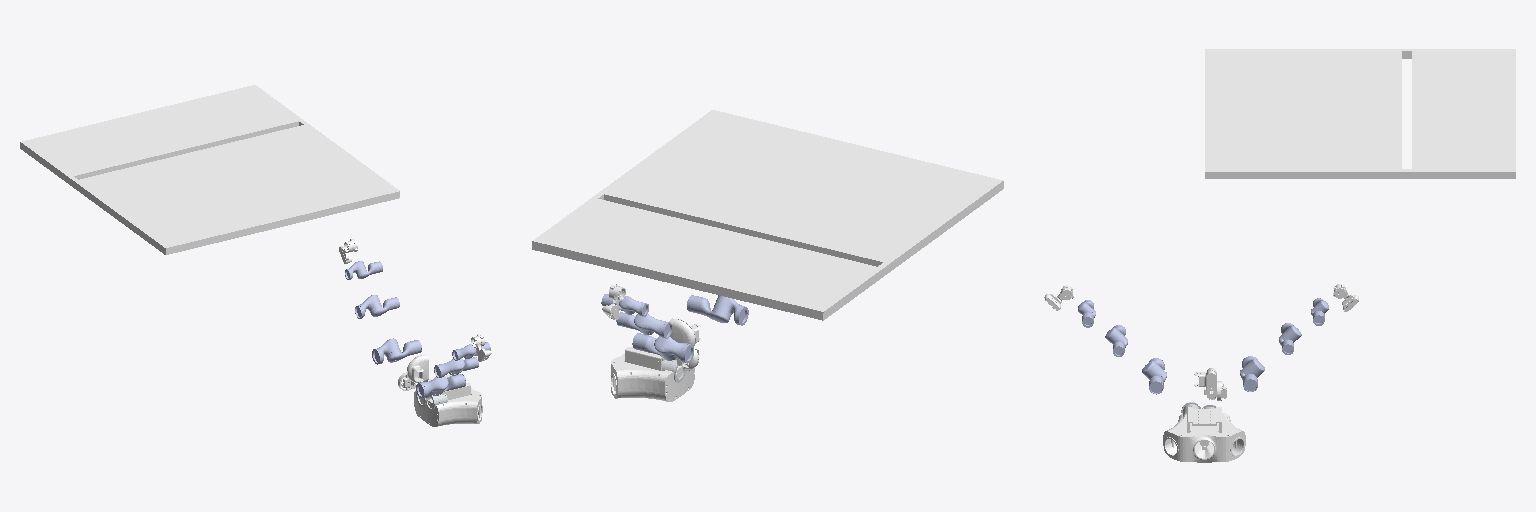
--- Facts derived from the render (not from the file) ---
The picture shows the robot from 3 angles, left to right: view 1: azimuth 30°, elevation 25°; view 2: azimuth 150°, elevation 25°; view 3: azimuth 270°, elevation 25°; orthographic projection.
Robot: Embodied lifting robot_two wheels_RM75-B-V — 37 links, 36 joints (28 revolute, 1 prismatic, 7 fixed); root link base_link; default pose: all joints at 0.
Visible links, largest first — view 1: base_link, link_5; view 2: base_link, link_5, link_left_1, link_mid_2, link_right_1, link_left_3, link_right_2; view 3: base_link, link_5.
Boxes of the visible links, <box> form: base_link: <box>20,85,399,254</box>; link_5: <box>414,375,482,426</box>; base_link: <box>532,110,1003,320</box>; link_5: <box>611,338,694,401</box>; link_left_1: <box>654,336,693,363</box>; link_mid_2: <box>669,318,700,345</box>; link_right_1: <box>712,295,748,325</box>; link_left_3: <box>634,314,671,338</box>; link_right_2: <box>687,295,729,322</box>; base_link: <box>1205,49,1515,178</box>; link_5: <box>1163,407,1245,462</box>.
Size in the robot's own frame: 1.83 by 2.27 by 1.36 metres.
20 mesh visuals loaded from 37 distinct referenced files (20 binary STL); not drawn: 17 (reference not matched to a file when rendering).

URDF robot description (Embodied lifting robot_two wheels_RM75-B-V):
<?xml version="1.0" encoding="utf-8"?>
<!-- This URDF was automatically created by SolidWorks to URDF Exporter! Originally created by Stephen Brawner ([email redacted]) 
     Commit Version: 1.6.0-4-g7f85cfe  Build Version: 1.6.7995.38578
     For more information, please see http://wiki.ros.org/sw_urdf_exporter -->
<robot
  name="Embodied lifting robot_two wheels_RM75-B-V">
  <link
    name="base_link">
    <inertial>
      <origin
        xyz="0.0156 -0.0013 0.1404"
        rpy="0 0 0" />
      <mass
        value="85" />
      <inertia
        ixx="13.992"
        ixy="-0.082"
        ixz="0.5258"
        iyy="15.43"
        iyz="0.04155"
        izz="3.329" />
    </inertial>
    <visual>
      <origin
        xyz="0 0 0"
        rpy="-1.57 0 0" />
      <geometry>
        <mesh
          filename="package://Embodied lifting robot_two wheels_RM75-B-V/meshes/base_link.STL" />
      </geometry>
      <material
        name="">
        <color
          rgba="1 1 1 1" />
      </material>
    </visual>
    <collision>
      <origin
        xyz="0 0 0"
        rpy="0 0 0" />
      <geometry>
        <mesh
          filename="package://Embodied lifting robot_two wheels_RM75-B-V/meshes/base_link.STL" />
      </geometry>
    </collision>
  </link>
  <link
    name="link_5">
    <inertial>
      <origin
        xyz="4E-06 -0.095859 0.14848"
        rpy="0 0 0" />
      <mass
        value="11" />
      <inertia
        ixx="0.092858272"
        ixy="2.2E-05"
        ixz="-1.1585E-05"
        iyy="0.146075845"
        iyz="-2.77942E-04"
        izz="0.118670960" />
    </inertial>
    <visual>
      <origin
        xyz="0 0 0"
        rpy="-1.57 0 0" />
      <geometry>
        <mesh
          filename="package://Embodied lifting robot_two wheels_RM75-B-V/meshes/link_5.STL" />
      </geometry>
      <material
        name="">
        <color
          rgba="1 1 1 1" />
      </material>
    </visual>
    <collision>
      <origin
        xyz="0 0 0"
        rpy="0 0 0" />
      <geometry>
        <mesh
          filename="package://Embodied lifting robot_two wheels_RM75-B-V/meshes/link_5.STL" />
      </geometry>
    </collision>
  </link>
  <joint
    name="joint_5"
    type="prismatic">
    <origin
      xyz="0.28339 0 0.17234"
      rpy="0 0 -1.5708" />
    <parent
      link="base_link" />
    <child
      link="link_5" />
    <axis
      xyz="0 0 -1" />
    <limit
      lower="-1"
      upper="0"
      effort="250"
      velocity="0.2" />
  </joint>
  <link
    name="link_left_0">
    <inertial>
      <origin
        xyz="0.00017015 4.8354E-09 0.077978"
        rpy="0 0 0" />
      <mass
        value="0.33723" />
      <inertia
        ixx="0.00047403"
        ixy="-2.9684E-12"
        ixz="0"
        iyy="0.00047403"
        iyz="-6.211E-11"
        izz="0.00050951" />
    </inertial>
    <visual>
      <origin
        xyz="0 0 0"
        rpy="-1.57 0 0" />
      <geometry>
        <mesh
          filename="package://Embodied lifting robot_two wheels_RM75-B-V/meshes/link_left_0.STL" />
      </geometry>
      <material
        name="">
        <color
          rgba="0.89804 0.91765 0.92941 1" />
      </material>
    </visual>
    <collision>
      <origin
        xyz="0 0 0"
        rpy="0 0 0" />
      <geometry>
        <mesh
          filename="package://Embodied lifting robot_two wheels_RM75-B-V/meshes/link_left_0.STL" />
      </geometry>
    </collision>
  </link>
  <joint
    name="joint_left_0"
    type="fixed">
    <origin
      xyz="-0.027968 -0.060363 0.12333"
      rpy="0 -0.7854 0" />
    <parent
      link="link_5" />
    <child
      link="link_left_0" />
    <axis
      xyz="0 0 0" />
    <limit
      lower="-0.98"
      upper="0.98"
      effort="0"
      velocity="0" />
  </joint>
  <link
    name="link_left_1">
    <inertial>
      <origin
        xyz="0.000241 -0.013273 -0.00995"
        rpy="0 0 0" />
      <mass
        value="1.574" />
      <inertia
        ixx="0.002920666"
        ixy="0.000014703"
        ixz="-0.000004131"
        iyy="0.002476942"
        iyz="-0.000028462"
        izz="0.001727926" />
    </inertial>
    <visual>
      <origin
        xyz="0 0 0"
        rpy="-1.57 0 0" />
      <geometry>
        <mesh
          filename="package://Embodied lifting robot_two wheels_RM75-B-V/meshes/link_left_1.STL" />
      </geometry>
      <material
        name="">
        <color
          rgba="0.79216 0.81961 0.93333 1" />
      </material>
    </visual>
    <collision>
      <origin
        xyz="0 0 0"
        rpy="0 0 0" />
      <geometry>
        <mesh
          filename="package://Embodied lifting robot_two wheels_RM75-B-V/meshes/link_left_1.STL" />
      </geometry>
    </collision>
  </link>
  <joint
    name="joint_left_1"
    type="revolute">
    <origin
      xyz="0 0 0.27468"
      rpy="0 0 0" />
    <parent
      link="link_left_0" />
    <child
      link="link_left_1" />
    <axis
      xyz="0 0 1" />
    <limit
      lower="-3.07"
      upper="3.07"
      effort="7"
      velocity="3.14" />
  </joint>
  <link
    name="link_left_2">
    <inertial>
      <origin
        xyz="-0.000357 -0.106798 0.005329"
        rpy="0 0 0" />
      <mass
        value="1.217" />
      <inertia
        ixx="0.017404207"
        ixy="-4.3488E-05"
        ixz="-3.297E-06"
        iyy="0.000927428"
        iyz="0.000108523"
        izz="0.01731977" />
    </inertial>
    <visual>
      <origin
        xyz="0 0 0"
        rpy="-1.57 0 0" />
      <geometry>
        <mesh
          filename="package://Embodied lifting robot_two wheels_RM75-B-V/meshes/link_left_2.STL" />
      </geometry>
      <material
        name="">
        <color
          rgba="0.79216 0.81961 0.93333 1" />
      </material>
    </visual>
    <collision>
      <origin
        xyz="0 0 0"
        rpy="0 0 0" />
      <geometry>
        <mesh
          filename="package://Embodied lifting robot_two wheels_RM75-B-V/meshes/link_left_2.STL" />
      </geometry>
    </collision>
  </link>
  <joint
    name="joint_left_2"
    type="revolute">
    <origin
      xyz="0 0 0"
      rpy="-1.5708 0 0" />
    <parent
      link="link_left_1" />
    <child
      link="link_left_2" />
    <axis
      xyz="0 0 1" />
    <limit
      lower="-2.26"
      upper="2.26"
      effort="7"
      velocity="3.14" />
  </joint>
  <link
    name="link_left_3">
    <inertial>
      <origin
        xyz="3E-06 -0.010398 -0.011324"
        rpy="0 0 0" />
      <mass
        value="1.11" />
      <inertia
        ixx="0.002099034"
        ixy="2.292E-06"
        ixz="-4.181E-06"
        iyy="0.001641235"
        iyz="-9.3542E-05"
        izz="0.001182557" />
    </inertial>
    <visual>
      <origin
        xyz="0 0 0"
        rpy="-1.57 0 0" />
      <geometry>
        <mesh
          filename="package://Embodied lifting robot_two wheels_RM75-B-V/meshes/link_left_3.STL" />
      </geometry>
      <material
        name="">
        <color
          rgba="0.79216 0.81961 0.93333 1" />
      </material>
    </visual>
    <collision>
      <origin
        xyz="0 0 0"
        rpy="0 0 0" />
      <geometry>
        <mesh
          filename="package://Embodied lifting robot_two wheels_RM75-B-V/meshes/link_left_3.STL" />
      </geometry>
    </collision>
  </link>
  <joint
    name="joint_left_3"
    type="revolute">
    <origin
      xyz="0 -0.256 0"
      rpy="1.5708 0 0" />
    <parent
      link="link_left_2" />
    <child
      link="link_left_3" />
    <axis
      xyz="0 0 1" />
    <limit
      lower="-3.07"
      upper="3.07"
      effort="7"
      velocity="3.925" />
  </joint>
  <link
    name="link_left_4">
    <inertial>
      <origin
        xyz="-5E-06 -0.084658 0.004747"
        rpy="0 0 0" />
      <mass
        value="0.685" />
      <inertia
        ixx="0.006204576"
        ixy="-8.19E-07"
        ixz="-6.15E-07"
        iyy="0.000388441"
        iyz="4.3054E-05"
        izz="0.006162881" />
    </inertial>
    <visual>
      <origin
        xyz="0 0 0"
        rpy="-1.57 0 0" />
      <geometry>
        <mesh
          filename="package://Embodied lifting robot_two wheels_RM75-B-V/meshes/link_left_4.STL" />
      </geometry>
      <material
        name="">
        <color
          rgba="0.79216 0.81961 0.93333 1" />
      </material>
    </visual>
    <collision>
      <origin
        xyz="0 0 0"
        rpy="0 0 0" />
      <geometry>
        <mesh
          filename="package://Embodied lifting robot_two wheels_RM75-B-V/meshes/link_left_4.STL" />
      </geometry>
    </collision>
  </link>
  <joint
    name="joint_left_4"
    type="revolute">
    <origin
      xyz="0 0 0"
      rpy="-1.5708 0 0" />
    <parent
      link="link_left_3" />
    <child
      link="link_left_4" />
    <axis
      xyz="0 0 1" />
    <limit
      lower="-2.355"
      upper="2.355"
      effort="7"
      velocity="3.925" />
  </joint>
  <link
    name="link_left_5">
    <inertial>
      <origin
        xyz="7.8E-05 -0.012937 -0.008781"
        rpy="0 0 0" />
      <mass
        value="0.619" />
      <inertia
        ixx="0.00077862"
        ixy="2.261E-06"
        ixz="-9.21E-07"
        iyy="0.00059017"
        iyz="-3.5324E-05"
        izz="0.00047386" />
    </inertial>
    <visual>
      <origin
        xyz="0 0 0"
        rpy="-1.57 0 0" />
      <geometry>
        <mesh
          filename="package://Embodied lifting robot_two wheels_RM75-B-V/meshes/link_left_5.STL" />
      </geometry>
      <material
        name="">
        <color
          rgba="0.79216 0.81961 0.93333 1" />
      </material>
    </visual>
    <collision>
      <origin
        xyz="0 0 0"
        rpy="0 0 0" />
      <geometry>
        <mesh
          filename="package://Embodied lifting robot_two wheels_RM75-B-V/meshes/link_left_5.STL" />
      </geometry>
    </collision>
  </link>
  <joint
    name="joint_left_5"
    type="revolute">
    <origin
      xyz="0 -0.21 0"
      rpy="1.5708 0 0" />
    <parent
      link="link_left_4" />
    <child
      link="link_left_5" />
    <axis
      xyz="0 0 1" />
    <limit
      lower="-3.07"
      upper="3.07"
      effort="7"
      velocity="3.925" />
  </joint>
  <link
    name="link_left_6">
    <inertial>
      <origin
        xyz="-1.4E-05 -0.078524 0.002819"
        rpy="0 0 0" />
      <mass
        value="0.602" />
      <inertia
        ixx="0.0044999"
        ixy="-8.02E-07"
        ixz="-4.44E-07"
        iyy="0.00029476"
        iyz="1.2831E-05"
        izz="0.0044783" />
    </inertial>
    <visual>
      <origin
        xyz="0 0 0"
        rpy="-1.57 0 0" />
      <geometry>
        <mesh
          filename="package://Embodied lifting robot_two wheels_RM75-B-V/meshes/link_left_6.STL" />
      </geometry>
      <material
        name="">
        <color
          rgba="0.79216 0.81961 0.93333 1" />
      </material>
    </visual>
    <collision>
      <origin
        xyz="0 0 0"
        rpy="0 0 0" />
      <geometry>
        <mesh
          filename="package://Embodied lifting robot_two wheels_RM75-B-V/meshes/link_left_6.STL" />
      </geometry>
    </collision>
  </link>
  <joint
    name="joint_left_6"
    type="revolute">
    <origin
      xyz="0 0 0"
      rpy="-1.5708 0 0" />
    <parent
      link="link_left_5" />
    <child
      link="link_left_6" />
    <axis
      xyz="0 0 1" />
    <limit
      lower="-2.2294"
      upper="2.2294"
      effort="7"
      velocity="3.925" />
  </joint>
  <link
    name="link_left_7">
    <inertial>
      <origin
        xyz="0.035573 -0.00393 -0.000086"
        rpy="0 0 0" />
      <mass
        value="0.25" />
      <inertia
        ixx="1.58188E-04"
        ixy="-5.565E-05"
        ixz="-3.8566E-05"
        iyy="4.99574E-04"
        iyz="-3.43E-06"
        izz="0.000579047" />
    </inertial>
    <visual>
      <origin
        xyz="0 0 0"
        rpy="-1.57 0 0" />
      <geometry>
        <mesh
          filename="package://Embodied lifting robot_two wheels_RM75-B-V/meshes/link_left_7.STL" />
      </geometry>
      <material
        name="">
        <color
          rgba="1 1 1 1" />
      </material>
    </visual>
    <collision>
      <origin
        xyz="0 0 0"
        rpy="0 0 0" />
      <geometry>
        <mesh
          filename="package://Embodied lifting robot_two wheels_RM75-B-V/meshes/link_left_7.STL" />
      </geometry>
    </collision>
  </link>
  <joint
    name="joint_left_7"
    type="revolute">
    <origin
      xyz="0 -0.144 0"
      rpy="1.5708 0 0" />
    <parent
      link="link_left_6" />
    <child
      link="link_left_7" />
    <axis
      xyz="0 0 -1" />
    <limit
      lower="-6.28"
      upper="6.28"
      effort="7"
      velocity="3.925" />
  </joint>
  <link
    name="link_left_camera">
    <inertial>
      <origin
        xyz="-2.3289E-06 -0.028317 -0.013522"
        rpy="0 0 0" />
      <mass
        value="0.08" />
      <inertia
        ixx="4.757E-05"
        ixy="2.2E-08"
        ixz="2.2E-08"
        iyy="6.895E-06"
        iyz="-9.66E-07"
        izz="4.6649E-05" />
    </inertial>
    <visual>
      <origin
        xyz="0 0 0"
        rpy="-1.57 0 0" />
      <geometry>
        <mesh
          filename="package://Embodied lifting robot_two wheels_RM75-B-V/meshes/link_left_camera.STL" />
      </geometry>
      <material
        name="">
        <color
          rgba="0.69804 0.69804 0.69804 1" />
      </material>
    </visual>
    <collision>
      <origin
        xyz="0 0 0"
        rpy="0 0 0" />
      <geometry>
        <mesh
          filename="package://Embodied lifting robot_two wheels_RM75-B-V/meshes/link_left_camera.STL" />
      </geometry>
    </collision>
  </link>
  <joint
    name="joint_left_camera"
    type="fixed">
    <origin
      xyz="-0.085499 0.043505 -0.01293"
      rpy="0 0 -1.5708" />
    <parent
      link="link_left_7" />
    <child
      link="link_left_camera" />
    <axis
      xyz="0 0 0" />
  </joint>
  <link
    name="hand_base">
    <inertial>
      <origin
        xyz="3.84872289645122E-06 -4.41448135187968E-05 0.0553867866771657"
        rpy="0 0 0" />
      <mass
        value="0.953455976099042" />
      <inertia
        ixx="0.00177628843801648"
        ixy="-8.19676071724033E-10"
        ixz="-3.00472546877836E-08"
        iyy="0.00187418176115802"
        iyz="-3.98009757950365E-07"
        izz="0.000875448946929789" />
    </inertial>
    <visual>
      <origin
        xyz="0 0 0"
        rpy="-1.57 0 0" />
      <geometry>
        <mesh
          filename="package://Embodied lifting robot_two wheels_RM75-B-V/meshes/hand_base.STL" />
      </geometry>
      <material
        name="">
        <color
          rgba="0.615686274509804 0.63921568627451 0.674509803921569 1" />
      </material>
    </visual>
    <collision>
      <origin
        xyz="0 0 0"
        rpy="0 0 0" />
      <geometry>
        <mesh
          filename="package://Embodied lifting robot_two wheels_RM75-B-V/meshes/hand_base.STL" />
      </geometry>
    </collision>
  </link>
  <joint
    name="joint_hand_base"
    type="fixed">
    <origin
      xyz="0 0 0.0228"
      rpy="0 0 0" />
    <parent
      link="link_left_7" />
    <child
      link="hand_base" />
    <axis
      xyz="0 0 0" />
  </joint>
  <link
    name="Left_1_Link">
    <inertial>
      <origin
        xyz="0.0202604071221892 0.0187577877882694 2.20960470526592E-14"
        rpy="0 0 0" />
      <mass
        value="0.0309052898336316" />
      <inertia
        ixx="4.31215511677353E-06"
        ixy="-4.26885891149938E-06"
        ixz="-2.46366459463114E-13"
        iyy="4.9707522189533E-06"
        iyz="-2.22956217486463E-13"
        izz="9.19223373728405E-06" />
    </inertial>
    <visual>
      <origin
        xyz="0 0 0"
        rpy="-1.57 0 0" />
      <geometry>
        <mesh
          filename="package://Embodied lifting robot_two wheels_RM75-B-V/meshes/Left_1_Link.STL" />
      </geometry>
      <material
        name="">
        <color
          rgba="0.615686274509804 0.63921568627451 0.674509803921569 1" />
      </material>
    </visual>
    <collision>
      <origin
        xyz="0 0 0"
        rpy="0 0 0" />
      <geometry>
        <mesh
          filename="package://Embodied lifting robot_two wheels_RM75-B-V/meshes/Left_1_Link.STL" />
      </geometry>
    </collision>
  </link>
  <joint
    name="Left_1_Joint"
    type="revolute">
    <origin
      xyz="0.030141 0 0.10415"
      rpy="1.5708 0 0" />
    <parent
      link="hand_base" />
    <child
      link="Left_1_Link" />
    <axis
      xyz="0 0 -1" />
    <limit
      lower="-0.91"
      upper="0"
      effort="10"
      velocity="10" />
  </joint>
  <link
    name="Left_Support_Link">
    <inertial>
      <origin
        xyz="-0.0177925864232372 0.0354308985297288 -3.45319167880073E-05"
        rpy="0 0 0" />
      <mass
        value="0.0828693338705683" />
      <inertia
        ixx="2.73957553511085E-05"
        ixy="7.04281105447926E-06"
        ixz="-1.08446711519888E-11"
        iyy="6.34802949004157E-06"
        iyz="1.18385736891846E-11"
        izz="2.83129237821216E-05" />
    </inertial>
    <visual>
      <origin
        xyz="0 0 0"
        rpy="-1.57 0 0" />
      <geometry>
        <mesh
          filename="package://Embodied lifting robot_two wheels_RM75-B-V/meshes/Left_Support_Link.STL" />
      </geometry>
      <material
        name="">
        <color
          rgba="0.615686274509804 0.63921568627451 0.674509803921569 1" />
      </material>
    </visual>
    <collision>
      <origin
        xyz="0 0 0"
        rpy="0 0 0" />
      <geometry>
        <mesh
          filename="package://Embodied lifting robot_two wheels_RM75-B-V/meshes/Left_Support_Link.STL" />
      </geometry>
    </collision>
  </link>
  <joint
    name="Left_Support_Joint"
    type="revolute">
    <origin
      xyz="0.040359 0.037365 0"
      rpy="0 0 0" />
    <parent
      link="Left_1_Link" />
    <child
      link="Left_Support_Link" />
    <axis
      xyz="0 0 -1" />
    <limit
      lower="0"
      upper="0.91"
      effort="10"
      velocity="10" />
    <mimic
      joint="Left_1_Joint"
      multiplier="-1"
      offset="0" />
  </joint>
  <link
    name="Left_2_Link">
    <inertial>
      <origin
        xyz="0.0202604071221829 0.0187577877878552 2.21631403129407E-14"
        rpy="0 0 0" />
      <mass
        value="0.0309052898336314" />
      <inertia
        ixx="4.31215511674771E-06"
        ixy="-4.26885891149736E-06"
        ixz="-2.46366467847417E-13"
        iyy="4.97075221897906E-06"
        iyz="-2.22956225772745E-13"
        izz="9.19223373728399E-06" />
    </inertial>
    <visual>
      <origin
        xyz="0 0 0"
        rpy="-1.57 0 0" />
      <geometry>
        <mesh
          filename="package://Embodied lifting robot_two wheels_RM75-B-V/meshes/Left_2_Link.STL" />
      </geometry>
      <material
        name="">
        <color
          rgba="0.615686274509804 0.63921568627451 0.674509803921569 1" />
      </material>
    </visual>
    <collision>
      <origin
        xyz="0 0 0"
        rpy="0 0 0" />
      <geometry>
        <mesh
          filename="package://Embodied lifting robot_two wheels_RM75-B-V/meshes/Left_2_Link.STL" />
      </geometry>
    </collision>
  </link>
  <joint
    name="Left_2_Joint"
    type="revolute">
    <origin
      xyz="0.016 0 0.121"
      rpy="1.5708 0 0" />
    <parent
      link="hand_base" />
    <child
      link="Left_2_Link" />
    <axis
      xyz="0 0 -1" />
    <limit
      lower="-0.91"
      upper="0"
      effort="10"
      velocity="10" />
    <mimic
      joint="Left_1_Joint"
      multiplier="1"
      offset="0" />
  </joint>
  <link
    name="Right_2_Link">
    <inertial>
      <origin
        xyz="0.0202604071211299 0.0187577877883374 2.11370080968728E-14"
        rpy="0 0 0" />
      <mass
        value="0.0309052898336316" />
      <inertia
        ixx="4.31215511674775E-06"
        ixy="-4.2688589114974E-06"
        ixz="-2.46366382911271E-13"
        iyy="4.9707522189791E-06"
        iyz="-2.22956145920037E-13"
        izz="9.19223373728407E-06" />
    </inertial>
    <visual>
      <origin
        xyz="0 0 0"
        rpy="-1.57 0 0" />
      <geometry>
        <mesh
          filename="package://Embodied lifting robot_two wheels_RM75-B-V/meshes/Right_2_Link.STL" />
      </geometry>
      <material
        name="">
        <color
          rgba="0.615686274509804 0.63921568627451 0.674509803921569 1" />
      </material>
    </visual>
    <collision>
      <origin
        xyz="0 0 0"
        rpy="0 0 0" />
      <geometry>
        <mesh
          filename="package://Embodied lifting robot_two wheels_RM75-B-V/meshes/Right_2_Link.STL" />
      </geometry>
    </collision>
  </link>
  <joint
    name="Right_2_Joint"
    type="revolute">
    <origin
      xyz="-0.016 0 0.121"
      rpy="1.5708 0 3.1416" />
    <parent
      link="hand_base" />
    <child
      link="Right_2_Link" />
    <axis
      xyz="0 0 1" />
    <limit
      lower="0.0"
      upper="0.91"
      effort="10"
      velocity="10" />
    <mimic
      joint="Left_1_Joint"
      multiplier="-1"
      offset="0" />
  </joint>
  <link
    name="Right_1_Link">
    <inertial>
      <origin
        xyz="0.0202604071211989 0.0187577877891044 2.11409547592425E-14"
        rpy="0 0 0" />
      <mass
        value="0.0309052898336314" />
      <inertia
        ixx="4.3121551167735E-06"
        ixy="-4.26885891149935E-06"
        ixz="-2.46366386343243E-13"
        iyy="4.97075221895327E-06"
        iyz="-2.22956149418598E-13"
        izz="9.19223373728398E-06" />
    </inertial>
    <visual>
      <origin
        xyz="0 0 0"
        rpy="-1.57 0 0" />
      <geometry>
        <mesh
          filename="package://Embodied lifting robot_two wheels_RM75-B-V/meshes/Right_1_Link.STL" />
      </geometry>
      <material
        name="">
        <color
          rgba="0.615686274509804 0.63921568627451 0.674509803921569 1" />
      </material>
    </visual>
    <collision>
      <origin
        xyz="0 0 0"
        rpy="0 0 0" />
      <geometry>
        <mesh
          filename="package://Embodied lifting robot_two wheels_RM75-B-V/meshes/Right_1_Link.STL" />
      </geometry>
    </collision>
  </link>
  <joint
    name="Right_1_Joint"
    type="revolute">
    <origin
      xyz="-0.030141 0 0.10415"
      rpy="1.5708 0 3.1416" />
    <parent
      link="hand_base" />
    <child
      link="Right_1_Link" />
    <axis
      xyz="0 0 1" />
    <limit
      lower="0"
      upper="0.91"
      effort="10"
      velocity="10" />
    <mimic
      joint="Left_1_Joint"
      multiplier="-1"
      offset="0" />
  </joint>
  <link
    name="Right_Support_Link">
    <inertial>
      <origin
        xyz="-0.0177925878352495 0.0354308970643828 -2.81887513877937E-08"
        rpy="0 0 0" />
      <mass
        value="0.082869359674167" />
      <inertia
        ixx="2.73957568837024E-05"
        ixy="7.04281063834988E-06"
        ixz="-9.62685216616108E-12"
        iyy="6.34803242941661E-06"
        iyz="1.28138996747735E-11"
        izz="2.83129239152281E-05" />
    </inertial>
    <visual>
      <origin
        xyz="0 0 0"
        rpy="-1.57 0 0" />
      <geometry>
        <mesh
          filename="package://Embodied lifting robot_two wheels_RM75-B-V/meshes/Right_Support_Link.STL" />
      </geometry>
      <material
        name="">
        <color
          rgba="0.615686274509804 0.63921568627451 0.674509803921569 1" />
      </material>
    </visual>
    <collision>
      <origin
        xyz="0 0 0"
        rpy="0 0 0" />
      <geometry>
        <mesh
          filename="package://Embodied lifting robot_two wheels_RM75-B-V/meshes/Right_Support_Link.STL" />
      </geometry>
    </collision>
  </link>
  <joint
    name="Right_Support_Joint"
    type="revolute">
    <origin
      xyz="0.040359 0.037365 0"
      rpy="0 0 0" />
    <parent
      link="Right_1_Link" />
    <child
      link="Right_Support_Link" />
    <axis
      xyz="0 0 -1" />
    <limit
      lower="0"
      upper="0.91"
      effort="10"
      velocity="10" />
    <mimic
      joint="Left_1_Joint"
      multiplier="-1"
      offset="0" />
  </joint>
  <link
    name="link_right_0">
    <inertial>
      <origin
        xyz="-0.00001 0 -0.091692"
        rpy="0 0 0" />
      <mass
        value="0.337" />
      <inertia
        ixx="0.000474035"
        ixy="0"
        ixz="0.00000001"
        iyy="0.000474026"
        iyz="0"
        izz="0.000509509" />
    </inertial>
    <visual>
      <origin
        xyz="0 0 0"
        rpy="-1.57 0 0" />
      <geometry>
        <mesh
          filename="package://Embodied lifting robot_two wheels_RM75-B-V/meshes/link_right_0.STL" />
      </geometry>
      <material
        name="">
        <color
          rgba="0.89804 0.91765 0.92941 1" />
      </material>
    </visual>
    <collision>
      <origin
        xyz="0 0 0"
        rpy="0 0 0" />
      <geometry>
        <mesh
          filename="package://Embodied lifting robot_two wheels_RM75-B-V/meshes/link_right_0.STL" />
      </geometry>
    </collision>
  </link>
  <joint
    name="joint_right_0"
    type="fixed">
    <origin
      xyz="0.062162 -0.059 0.13748"
      rpy="0 0.7854 0" />
    <parent
      link="link_5" />
    <child
      link="link_right_0" />
    <axis
      xyz="0 0 0" />
  </joint>
  <link
    name="link_right_1">
    <inertial>
      <origin
        xyz="0.000241 -0.013273 -0.00995"
        rpy="0 0 0" />
      <mass
        value="1.574" />
      <inertia
        ixx="0.002920666"
        ixy="1.4703E-05"
        ixz="-4.131E-06"
        iyy="0.002476942"
        iyz="-2.8462E-05"
        izz="0.001727926" />
    </inertial>
    <visual>
      <origin
        xyz="0 0 0"
        rpy="-1.57 0 0" />
      <geometry>
        <mesh
          filename="package://Embodied lifting robot_two wheels_RM75-B-V/meshes/link_right_1.STL" />
      </geometry>
      <material
        name="">
        <color
          rgba="0.79216 0.81961 0.93333 1" />
      </material>
    </visual>
    <collision>
      <origin
        xyz="0 0 0"
        rpy="0 0 0" />
      <geometry>
        <mesh
          filename="package://Embodied lifting robot_two wheels_RM75-B-V/meshes/link_right_1.STL" />
      </geometry>
    </collision>
  </link>
  <joint
    name="joint_right_1"
    type="revolute">
    <origin
      xyz="0 0 0.2405"
      rpy="0 0 0" />
    <parent
      link="link_right_0" />
    <child
      link="link_right_1" />
    <axis
      xyz="0 0 1" />
    <limit
      lower="-3.07"
      upper="3.07"
      effort="7"
      velocity="3.14" />
  </joint>
  <link
    name="link_right_2">
    <inertial>
      <origin
        xyz="-0.000357 -0.106798 0.005329"
        rpy="0 0 0" />
      <mass
        value="1.217" />
      <inertia
        ixx="0.017404207"
        ixy="-4.3488E-05"
        ixz="-3.297E-06"
        iyy="0.000927428"
        iyz="0.000108523"
        izz="0.01731977" />
    </inertial>
    <visual>
      <origin
        xyz="0 0 0"
        rpy="-1.57 0 0" />
      <geometry>
        <mesh
          filename="package://Embodied lifting robot_two wheels_RM75-B-V/meshes/link_right_2.STL" />
      </geometry>
      <material
        name="">
        <color
          rgba="0.79216 0.81961 0.93333 1" />
      </material>
    </visual>
    <collision>
      <origin
        xyz="0 0 0"
        rpy="0 0 0" />
      <geometry>
        <mesh
          filename="package://Embodied lifting robot_two wheels_RM75-B-V/meshes/link_right_2.STL" />
      </geometry>
    </collision>
  </link>
  <joint
    name="joint_right_2"
    type="revolute">
    <origin
      xyz="0 0 0"
      rpy="-1.5708 0 0" />
    <parent
      link="link_right_1" />
    <child
      link="link_right_2" />
    <axis
      xyz="0 0 1" />
    <limit
      lower="-2.26"
      upper="2.26"
      effort="7"
      velocity="3.14" />
  </joint>
  <link
    name="link_right_3">
    <inertial>
      <origin
        xyz="3E-06 -0.010398 -0.011324"
        rpy="0 0 0" />
      <mass
        value="1.11" />
      <inertia
        ixx="0.002099034"
        ixy="2.292E-06"
        ixz="-4.181E-06"
        iyy="0.001641235"
        iyz="-9.3542E-05"
        izz="0.001182557" />
    </inertial>
    <visual>
      <origin
        xyz="0 0 0"
        rpy="-1.57 0 0" />
      <geometry>
        <mesh
          filename="package://Embodied lifting robot_two wheels_RM75-B-V/meshes/link_right_3.STL" />
      </geometry>
      <material
        name="">
        <color
          rgba="0.79216 0.81961 0.93333 1" />
      </material>
    </visual>
    <collision>
      <origin
        xyz="0 0 0"
        rpy="0 0 0" />
      <geometry>
        <mesh
          filename="package://Embodied lifting robot_two wheels_RM75-B-V/meshes/link_right_3.STL" />
      </geometry>
    </collision>
  </link>
  <joint
    name="joint_right_3"
    type="revolute">
    <origin
      xyz="0 -0.256 0"
      rpy="1.5708 0 0" />
    <parent
      link="link_right_2" />
    <child
      link="link_right_3" />
    <axis
      xyz="0 0 1" />
    <limit
      lower="-3.07"
      upper="3.07"
      effort="7"
      velocity="3.925" />
  </joint>
  <link
    name="link_right_4">
    <inertial>
      <origin
        xyz="-5E-06 -0.084658 0.004747"
        rpy="0 0 0" />
      <mass
        value="0.685" />
      <inertia
        ixx="0.006204576"
        ixy="-8.19E-07"
        ixz="-6.15E-07"
        iyy="0.000388441"
        iyz="4.3054E-05"
        izz="0.006162881" />
    </inertial>
    <visual>
      <origin
        xyz="0 0 0"
        rpy="-1.57 0 0" />
      <geometry>
        <mesh
          filename="package://Embodied lifting robot_two wheels_RM75-B-V/meshes/link_right_4.STL" />
      </geometry>
      <material
        name="">
        <color
          rgba="0.79216 0.81961 0.93333 1" />
      </material>
    </visual>
    <collision>
      <origin
        xyz="0 0 0"
        rpy="0 0 0" />
      <geometry>
        <mesh
          filename="package://Embodied lifting robot_two wheels_RM75-B-V/meshes/link_right_4.STL" />
      </geometry>
    </collision>
  </link>
  <joint
    name="joint_right_4"
    type="revolute">
    <origin
      xyz="0 0 0"
      rpy="-1.5708 0 0" />
    <parent
      link="link_right_3" />
    <child
      link="link_right_4" />
    <axis
      xyz="0 0 1" />
    <limit
      lower="-2.355"
      upper="2.355"
      effort="7"
      velocity="3.925" />
  </joint>
  <link
    name="link_right_5">
    <inertial>
      <origin
        xyz="7.8E-05 -0.012937 -0.008781"
        rpy="0 0 0" />
      <mass
        value="0.619" />
      <inertia
        ixx="0.00077862"
        ixy="2.261E-06"
        ixz="-9.21E-07"
        iyy="0.00059017"
        iyz="-3.5324E-05"
        izz="0.00047386" />
    </inertial>
    <visual>
      <origin
        xyz="0 0 0"
        rpy="-1.57 0 0" />
      <geometry>
        <mesh
          filename="package://Embodied lifting robot_two wheels_RM75-B-V/meshes/link_right_5.STL" />
      </geometry>
      <material
        name="">
        <color
          rgba="0.79216 0.81961 0.93333 1" />
      </material>
    </visual>
    <collision>
      <origin
        xyz="0 0 0"
        rpy="0 0 0" />
      <geometry>
        <mesh
          filename="package://Embodied lifting robot_two wheels_RM75-B-V/meshes/link_right_5.STL" />
      </geometry>
    </collision>
  </link>
  <joint
    name="joint_right_5"
    type="revolute">
    <origin
      xyz="0 -0.21 0"
      rpy="1.5708 0 0" />
    <parent
      link="link_right_4" />
    <child
      link="link_right_5" />
    <axis
      xyz="0 0 1" />
    <limit
      lower="-3.07"
      upper="3.07"
      effort="7"
      velocity="3.925" />
  </joint>
  <link
    name="link_right_6">
    <inertial>
      <origin
        xyz="-1.4E-05 -0.078524 0.002819"
        rpy="0 0 0" />
      <mass
        value="0.602" />
      <inertia
        ixx="0.0044999"
        ixy="-8.02E-07"
        ixz="-4.44E-07"
        iyy="0.00029476"
        iyz="1.2831E-05"
        izz="0.0044783" />
    </inertial>
    <visual>
      <origin
        xyz="0 0 0"
        rpy="-1.57 0 0" />
      <geometry>
        <mesh
          filename="package://Embodied lifting robot_two wheels_RM75-B-V/meshes/link_right_6.STL" />
      </geometry>
      <material
        name="">
        <color
          rgba="0.79216 0.81961 0.93333 1" />
      </material>
    </visual>
    <collision>
      <origin
        xyz="0 0 0"
        rpy="0 0 0" />
      <geometry>
        <mesh
          filename="package://Embodied lifting robot_two wheels_RM75-B-V/meshes/link_right_6.STL" />
      </geometry>
    </collision>
  </link>
  <joint
    name="joint_right_6"
    type="revolute">
    <origin
      xyz="0 0 0"
      rpy="-1.5708 0 0" />
    <parent
      link="link_right_5" />
    <child
      link="link_right_6" />
    <axis
      xyz="0 0 1" />
    <limit
      lower="-2.2294"
      upper="2.2294"
      effort="7"
      velocity="3.925" />
  </joint>
  <link
    name="link_right_7">
    <inertial>
      <origin
        xyz="0.035573 -0.00393 -0.000086"
        rpy="0 0 0" />
      <mass
        value="0.25" />
      <inertia
        ixx="1.58188E-04"
        ixy="-5.565E-05"
        ixz="-3.8566E-05"
        iyy="4.99574E-04"
        iyz="-3.43E-06"
        izz="0.000579047" />
    </inertial>
    <visual>
      <origin
        xyz="0 0 0"
        rpy="-1.57 0 0" />
      <geometry>
        <mesh
          filename="package://Embodied lifting robot_two wheels_RM75-B-V/meshes/link_right_7.STL" />
      </geometry>
      <material
        name="">
        <color
          rgba="1 1 1 1" />
      </material>
    </visual>
    <collision>
      <origin
        xyz="0 0 0"
        rpy="0 0 0" />
      <geometry>
        <mesh
          filename="package://Embodied lifting robot_two wheels_RM75-B-V/meshes/link_right_7.STL" />
      </geometry>
    </collision>
  </link>
  <joint
    name="joint_right_7"
    type="revolute">
    <origin
      xyz="0 -0.144 0"
      rpy="1.5708 0 0" />
    <parent
      link="link_right_6" />
    <child
      link="link_right_7" />
    <axis
      xyz="0 0 -1" />
    <limit
      lower="-6.28"
      upper="6.28"
      effort="7"
      velocity="3.925" />
  </joint>
  <link
    name="link_right_camera">
    <inertial>
      <origin
        xyz="2.3289E-06 0.028317 -0.013522"
        rpy="0 0 0" />
      <mass
        value="0.08" />
      <inertia
        ixx="4.757E-05"
        ixy="2.2E-08"
        ixz="-2.2E-08"
        iyy="6.895E-06"
        iyz="9.66E-07"
        izz="4.6649E-05" />
    </inertial>
    <visual>
      <origin
        xyz="0 0 0"
        rpy="-1.57 0 0" />
      <geometry>
        <mesh
          filename="package://Embodied lifting robot_two wheels_RM75-B-V/meshes/link_right_camera.STL" />
      </geometry>
      <material
        name="">
        <color
          rgba="0.69804 0.69804 0.69804 1" />
      </material>
    </visual>
    <collision>
      <origin
        xyz="0 0 0"
        rpy="0 0 0" />
      <geometry>
        <mesh
          filename="package://Embodied lifting robot_two wheels_RM75-B-V/meshes/link_right_camera.STL" />
      </geometry>
    </collision>
  </link>
  <joint
    name="joint_right_camera"
    type="fixed">
    <origin
      xyz="0.085512 -0.044595 -0.01593"
      rpy="0 0 0" />
    <parent
      link="link_right_7" />
    <child
      link="link_right_camera" />
    <axis
      xyz="0 0 0" />
  </joint>
  <link
    name="hand_base2">
    <inertial>
      <origin
        xyz="3.84872289645122E-06 -4.41448135187968E-05 0.0553867866771657"
        rpy="0 0 0" />
      <mass
        value="0.953455976099042" />
      <inertia
        ixx="0.00177628843801648"
        ixy="-8.19676071724033E-10"
        ixz="-3.00472546877836E-08"
        iyy="0.00187418176115802"
        iyz="-3.98009757950365E-07"
        izz="0.000875448946929789" />
    </inertial>
    <visual>
      <origin
        xyz="0 0 0"
        rpy="-1.57 0 0" />
      <geometry>
        <mesh
          filename="package://Embodied lifting robot_two wheels_RM75-B-V/meshes/hand_base2.STL" />
      </geometry>
      <material
        name="">
        <color
          rgba="0.615686274509804 0.63921568627451 0.674509803921569 1" />
      </material>
    </visual>
    <collision>
      <origin
        xyz="0 0 0"
        rpy="0 0 0" />
      <geometry>
        <mesh
          filename="package://Embodied lifting robot_two wheels_RM75-B-V/meshes/hand_base2.STL" />
      </geometry>
    </collision>
  </link>
  <joint
    name="joint_hand_base2"
    type="fixed">
    <origin
      xyz="0 0 0.0228"
      rpy="0 0 0" />
    <parent
      link="link_right_7" />
    <child
      link="hand_base2" />
    <axis
      xyz="0 0 0" />
  </joint>
  <link
    name="Left_1_Link2">
    <inertial>
      <origin
        xyz="0.0202604071221892 0.0187577877882694 2.20960470526592E-14"
        rpy="0 0 0" />
      <mass
        value="0.0309052898336316" />
      <inertia
        ixx="4.31215511677353E-06"
        ixy="-4.26885891149938E-06"
        ixz="-2.46366459463114E-13"
        iyy="4.9707522189533E-06"
        iyz="-2.22956217486463E-13"
        izz="9.19223373728405E-06" />
    </inertial>
    <visual>
      <origin
        xyz="0 0 0"
        rpy="-1.57 0 0" />
      <geometry>
        <mesh
          filename="package://Embodied lifting robot_two wheels_RM75-B-V/meshes/Left_1_Link2.STL" />
      </geometry>
      <material
        name="">
        <color
          rgba="0.615686274509804 0.63921568627451 0.674509803921569 1" />
      </material>
    </visual>
    <collision>
      <origin
        xyz="0 0 0"
        rpy="0 0 0" />
      <geometry>
        <mesh
          filename="package://Embodied lifting robot_two wheels_RM75-B-V/meshes/Left_1_Link2.STL" />
      </geometry>
    </collision>
  </link>
  <joint
    name="Left_1_Joint2"
    type="revolute">
    <origin
      xyz="0.030141 0 0.10415"
      rpy="1.5708 0 0" />
    <parent
      link="hand_base2" />
    <child
      link="Left_1_Link2" />
    <axis
      xyz="0 0 -1" />
    <limit
      lower="-0.91"
      upper="0"
      effort="10"
      velocity="10" />
  </joint>
  <link
    name="Left_Support_Link2">
    <inertial>
      <origin
        xyz="-0.0177925864232372 0.0354308985297288 -3.45319167880073E-05"
        rpy="0 0 0" />
      <mass
        value="0.0828693338705683" />
      <inertia
        ixx="2.73957553511085E-05"
        ixy="7.04281105447926E-06"
        ixz="-1.08446711519888E-11"
        iyy="6.34802949004157E-06"
        iyz="1.18385736891846E-11"
        izz="2.83129237821216E-05" />
    </inertial>
    <visual>
      <origin
        xyz="0 0 0"
        rpy="-1.57 0 0" />
      <geometry>
        <mesh
          filename="package://Embodied lifting robot_two wheels_RM75-B-V/meshes/Left_Support_Link2.STL" />
      </geometry>
      <material
        name="">
        <color
          rgba="0.615686274509804 0.63921568627451 0.674509803921569 1" />
      </material>
    </visual>
    <collision>
      <origin
        xyz="0 0 0"
        rpy="0 0 0" />
      <geometry>
        <mesh
          filename="package://Embodied lifting robot_two wheels_RM75-B-V/meshes/Left_Support_Link2.STL" />
      </geometry>
    </collision>
  </link>
  <joint
    name="Left_Support_Joint2"
    type="revolute">
    <origin
      xyz="0.040359 0.037365 0"
      rpy="0 0 0" />
    <parent
      link="Left_1_Link2" />
    <child
      link="Left_Support_Link2" />
    <axis
      xyz="0 0 -1" />
    <limit
      lower="0"
      upper="0.91"
      effort="10"
      velocity="10" />
    <mimic
      joint="Left_1_Joint2"
      multiplier="-1"
      offset="0" />
  </joint>
  <link
    name="Left_2_Link2">
    <inertial>
      <origin
        xyz="0.0202604071221829 0.0187577877878552 2.21631403129407E-14"
        rpy="0 0 0" />
      <mass
        value="0.0309052898336314" />
      <inertia
        ixx="4.31215511674771E-06"
        ixy="-4.26885891149736E-06"
        ixz="-2.46366467847417E-13"
        iyy="4.97075221897906E-06"
        iyz="-2.22956225772745E-13"
        izz="9.19223373728399E-06" />
    </inertial>
    <visual>
      <origin
        xyz="0 0 0"
        rpy="-1.57 0 0" />
      <geometry>
        <mesh
          filename="package://Embodied lifting robot_two wheels_RM75-B-V/meshes/Left_2_Link2.STL" />
      </geometry>
      <material
        name="">
        <color
          rgba="0.615686274509804 0.63921568627451 0.674509803921569 1" />
      </material>
    </visual>
    <collision>
      <origin
        xyz="0 0 0"
        rpy="0 0 0" />
      <geometry>
        <mesh
          filename="package://Embodied lifting robot_two wheels_RM75-B-V/meshes/Left_2_Link2.STL" />
      </geometry>
    </collision>
  </link>
  <joint
    name="Left_2_Joint2"
    type="revolute">
    <origin
      xyz="0.016 0 0.121"
      rpy="1.5708 0 0" />
    <parent
      link="hand_base2" />
    <child
      link="Left_2_Link2" />
    <axis
      xyz="0 0 -1" />
    <limit
      lower="-0.91"
      upper="0"
      effort="10"
      velocity="10" />
    <mimic
      joint="Left_1_Joint2"
      multiplier="1"
      offset="0" />
  </joint>
  <link
    name="Right_2_Link2">
    <inertial>
      <origin
        xyz="0.0202604071211299 0.0187577877883374 2.11370080968728E-14"
        rpy="0 0 0" />
      <mass
        value="0.0309052898336316" />
      <inertia
        ixx="4.31215511674775E-06"
        ixy="-4.2688589114974E-06"
        ixz="-2.46366382911271E-13"
        iyy="4.9707522189791E-06"
        iyz="-2.22956145920037E-13"
        izz="9.19223373728407E-06" />
    </inertial>
    <visual>
      <origin
        xyz="0 0 0"
        rpy="-1.57 0 0" />
      <geometry>
        <mesh
          filename="package://Embodied lifting robot_two wheels_RM75-B-V/meshes/Right_2_Link2.STL" />
      </geometry>
      <material
        name="">
        <color
          rgba="0.615686274509804 0.63921568627451 0.674509803921569 1" />
      </material>
    </visual>
    <collision>
      <origin
        xyz="0 0 0"
        rpy="0 0 0" />
      <geometry>
        <mesh
          filename="package://Embodied lifting robot_two wheels_RM75-B-V/meshes/Right_2_Link2.STL" />
      </geometry>
    </collision>
  </link>
  <joint
    name="Right_2_Joint2"
    type="revolute">
    <origin
      xyz="-0.016 0 0.121"
      rpy="1.5708 0 3.1416" />
    <parent
      link="hand_base2" />
    <child
      link="Right_2_Link2" />
    <axis
      xyz="0 0 1" />
    <limit
      lower="0"
      upper="0.91"
      effort="10"
      velocity="10" />
    <mimic
      joint="Left_1_Joint2"
      multiplier="-1"
      offset="0" />
  </joint>
  <link
    name="Right_1_Link2">
    <inertial>
      <origin
        xyz="0.0202604071211989 0.0187577877891044 2.11409547592425E-14"
        rpy="0 0 0" />
      <mass
        value="0.0309052898336314" />
      <inertia
        ixx="4.3121551167735E-06"
        ixy="-4.26885891149935E-06"
        ixz="-2.46366386343243E-13"
        iyy="4.97075221895327E-06"
        iyz="-2.22956149418598E-13"
        izz="9.19223373728398E-06" />
    </inertial>
    <visual>
      <origin
        xyz="0 0 0"
        rpy="-1.57 0 0" />
      <geometry>
        <mesh
          filename="package://Embodied lifting robot_two wheels_RM75-B-V/meshes/Right_1_Link2.STL" />
      </geometry>
      <material
        name="">
        <color
          rgba="0.615686274509804 0.63921568627451 0.674509803921569 1" />
      </material>
    </visual>
    <collision>
      <origin
        xyz="0 0 0"
        rpy="0 0 0" />
      <geometry>
        <mesh
          filename="package://Embodied lifting robot_two wheels_RM75-B-V/meshes/Right_1_Link2.STL" />
      </geometry>
    </collision>
  </link>
  <joint
    name="Right_1_Joint2"
    type="revolute">
    <origin
      xyz="-0.030141 0 0.10415"
      rpy="1.5708 0 3.1416" />
    <parent
      link="hand_base2" />
    <child
      link="Right_1_Link2" />
    <axis
      xyz="0 0 1" />
    <limit
      lower="0"
      upper="0.91"
      effort="10"
      velocity="10" />
    <mimic
      joint="Left_1_Joint2"
      multiplier="-1"
      offset="0" />
  </joint>
  <link
    name="Right_Support_Link2">
    <inertial>
      <origin
        xyz="-0.0177925878352495 0.0354308970643828 -2.81887513877937E-08"
        rpy="0 0 0" />
      <mass
        value="0.082869359674167" />
      <inertia
        ixx="2.73957568837024E-05"
        ixy="7.04281063834988E-06"
        ixz="-9.62685216616108E-12"
        iyy="6.34803242941661E-06"
        iyz="1.28138996747735E-11"
        izz="2.83129239152281E-05" />
    </inertial>
    <visual>
      <origin
        xyz="0 0 0"
        rpy="-1.57 0 0" />
      <geometry>
        <mesh
          filename="package://Embodied lifting robot_two wheels_RM75-B-V/meshes/Right_Support_Link2.STL" />
      </geometry>
      <material
        name="">
        <color
          rgba="0.615686274509804 0.63921568627451 0.674509803921569 1" />
      </material>
    </visual>
    <collision>
      <origin
        xyz="0 0 0"
        rpy="0 0 0" />
      <geometry>
        <mesh
          filename="package://Embodied lifting robot_two wheels_RM75-B-V/meshes/Right_Support_Link2.STL" />
      </geometry>
    </collision>
  </link>
  <joint
    name="Right_Support_Joint2"
    type="revolute">
    <origin
      xyz="0.040359 0.037365 0"
      rpy="0 0 0" />
    <parent
      link="Right_1_Link2" />
    <child
      link="Right_Support_Link2" />
    <axis
      xyz="0 0 -1" />
    <limit
      lower="0"
      upper="0.91"
      effort="10"
      velocity="10" />
    <mimic
      joint="Left_1_Joint2"
      multiplier="-1"
      offset="0" />
  </joint>
  <link
    name="link_mid_1">
    <inertial>
      <origin
        xyz="0.00541 -0.000077 -0.076042"
        rpy="0 0 0" />
      <mass
        value="0.14" />
      <inertia
        ixx="0.000122559"
        ixy="-1.63E-07"
        ixz="3.095E-06"
        iyy="0.000118553"
        iyz="-2.12E-07"
        izz="0.000161407" />
    </inertial>
    <visual>
      <origin
        xyz="0 0 0"
        rpy="-1.57 0 0" />
      <geometry>
        <mesh
          filename="package://Embodied lifting robot_two wheels_RM75-B-V/meshes/link_mid_1.STL" />
      </geometry>
      <material
        name="">
        <color
          rgba="1 1 1 1" />
      </material>
    </visual>
    <collision>
      <origin
        xyz="0 0 0"
        rpy="0 0 0" />
      <geometry>
        <mesh
          filename="package://Embodied lifting robot_two wheels_RM75-B-V/meshes/link_mid_1.STL" />
      </geometry>
    </collision>
  </link>
  <joint
    name="joint_mid_1"
    type="revolute">
    <origin
      xyz="0 -0.0675 0.21566"
      rpy="0 0 1.5708" />
    <parent
      link="link_5" />
    <child
      link="link_mid_1" />
    <axis
      xyz="0 0 1" />
    <limit
      lower="-1.38"
      upper="1.38"
      effort="7"
      velocity="3.14" />
  </joint>
  <link
    name="link_mid_2">
    <inertial>
      <origin
        xyz="0.027378 0.026445 0.054976"
        rpy="0 0 0" />
      <mass
        value="0.37" />
      <inertia
        ixx="0.00087368"
        ixy="-5.05E-07"
        ixz="6.378E-05"
        iyy="6.37406E-04"
        iyz="-2E-07"
        izz="1.032833E-03" />
    </inertial>
    <visual>
      <origin
        xyz="0 0 0"
        rpy="-1.57 0 0" />
      <geometry>
        <mesh
          filename="package://Embodied lifting robot_two wheels_RM75-B-V/meshes/link_mid_2.STL" />
      </geometry>
      <material
        name="">
        <color
          rgba="1 1 1 1" />
      </material>
    </visual>
    <collision>
      <origin
        xyz="0 0 0"
        rpy="0 0 0" />
      <geometry>
        <mesh
          filename="package://Embodied lifting robot_two wheels_RM75-B-V/meshes/link_mid_2.STL" />
      </geometry>
    </collision>
  </link>
  <joint
    name="joint_mid_2"
    type="revolute">
    <origin
      xyz="0.02 -0.027 0.0965"
      rpy="0 0 0" />
    <parent
      link="link_mid_1" />
    <child
      link="link_mid_2" />
    <axis
      xyz="0 -1 0" />
    <limit
      lower="-1.03"
      upper="1.03"
      effort="7"
      velocity="3.14" />
  </joint>
  <link
    name="link_mid_camera">
    <inertial>
      <origin
        xyz="-0.013522 -0.028427 2.3307E-06"
        rpy="0 0 0" />
      <mass
        value="0.08" />
      <inertia
        ixx="0.000046649"
        ixy="-0.000000966"
        ixz="-2.2E-08"
        iyy="6.895E-06"
        iyz="-2.2E-08"
        izz="4.757E-05" />
    </inertial>
    <visual>
      <origin
        xyz="0 0 0"
        rpy="-1.57 0 0" />
      <geometry>
        <mesh
          filename="package://Embodied lifting robot_two wheels_RM75-B-V/meshes/link_mid_camera.STL" />
      </geometry>
      <material
        name="">
        <color
          rgba="0.69804 0.69804 0.69804 1" />
      </material>
    </visual>
    <collision>
      <origin
        xyz="0 0 0"
        rpy="0 0 0" />
      <geometry>
        <mesh
          filename="package://Embodied lifting robot_two wheels_RM75-B-V/meshes/link_mid_camera.STL" />
      </geometry>
    </collision>
  </link>
  <joint
    name="joint_mid_camera"
    type="fixed">
    <origin
      xyz="0.076814 0.059063 0.061646"
      rpy="0 0 0" />
    <parent
      link="link_mid_2" />
    <child
      link="link_mid_camera" />
    <axis
      xyz="0 0 0" />
  </joint>
</robot>
